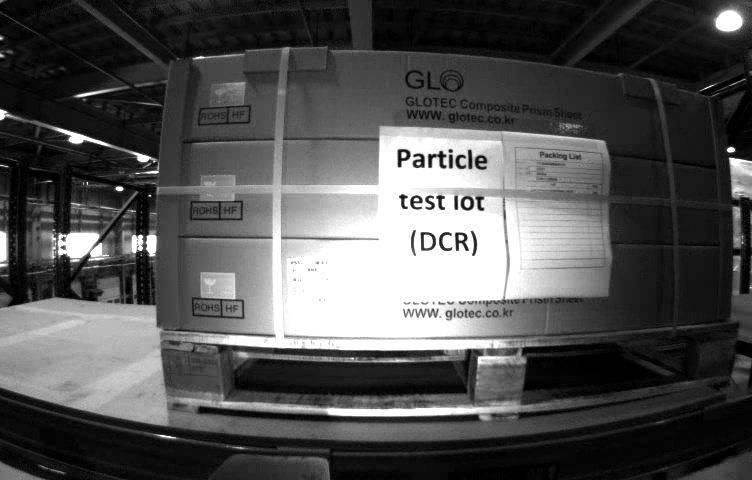True Barcode: (285, 256, 346, 306)
